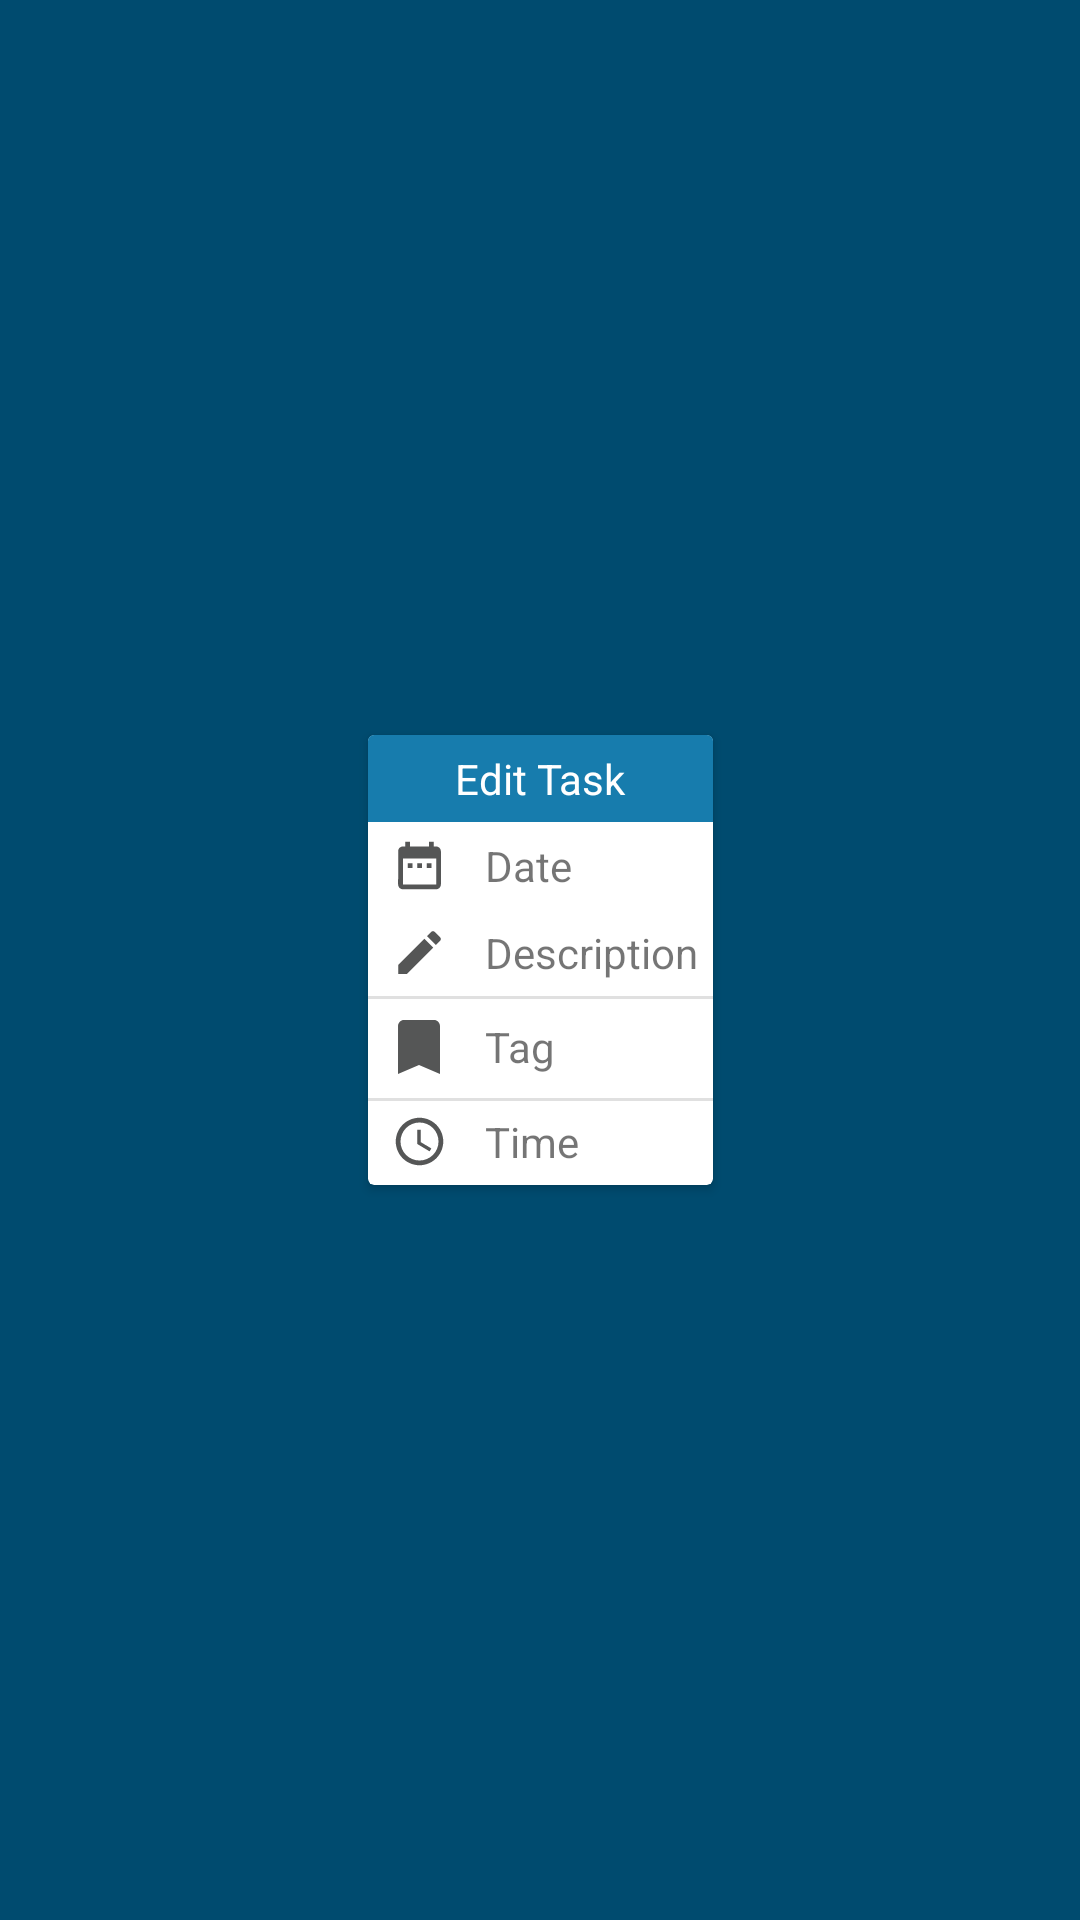

Icons on this 1080w x 1920h Android screen, each with its box as (x1,y1,x2,y2):
tag base: (398,1020,440,1074)
